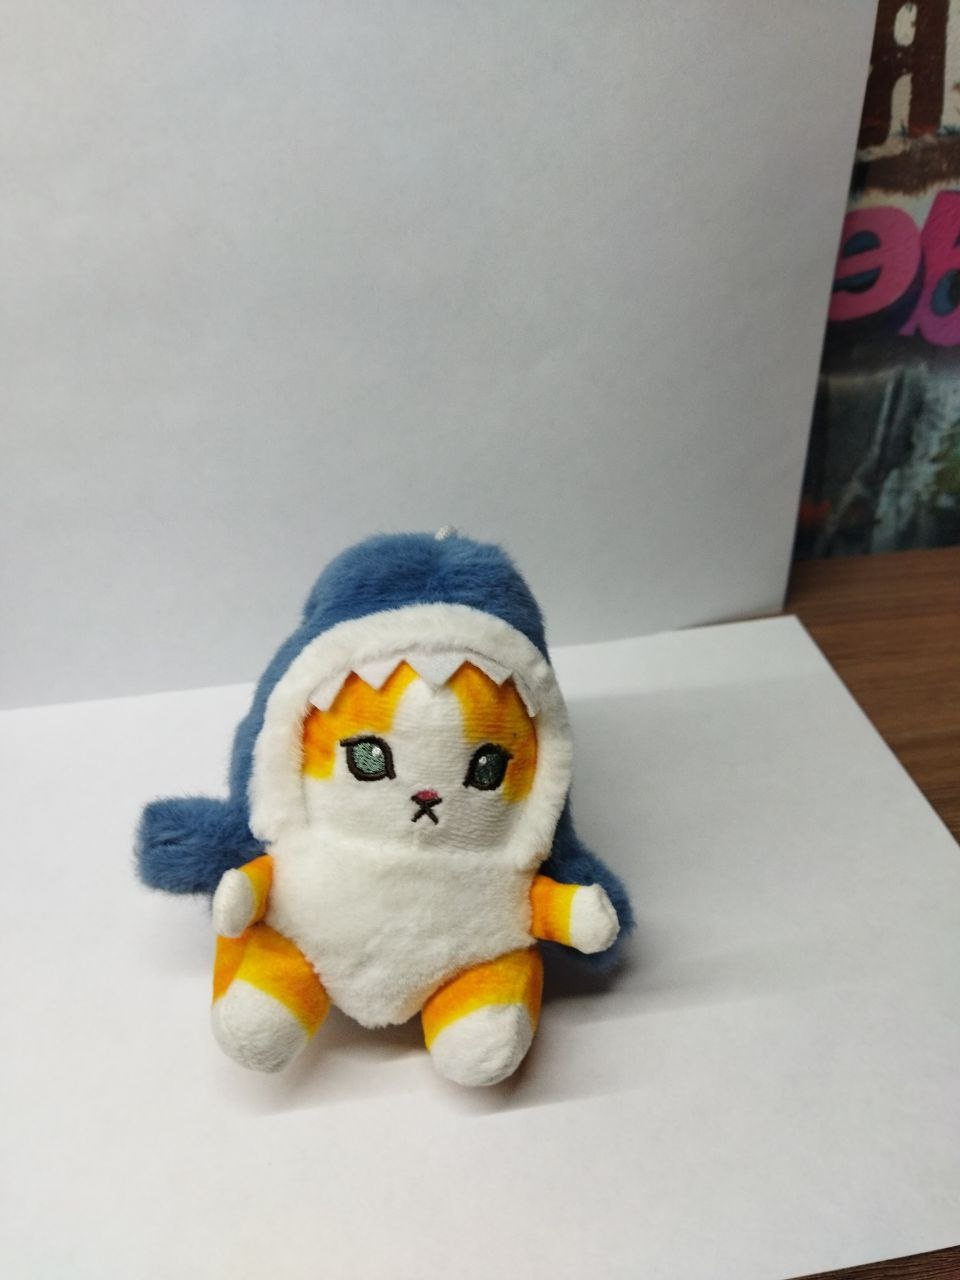Snark Cat: (149, 532, 632, 1087)
